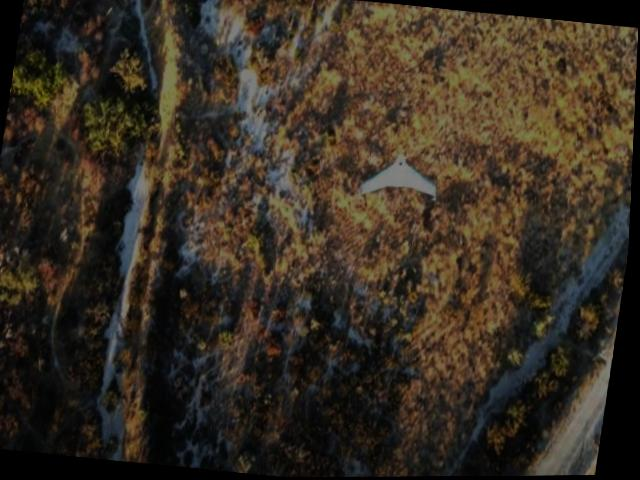iha: (358, 147, 446, 206)
